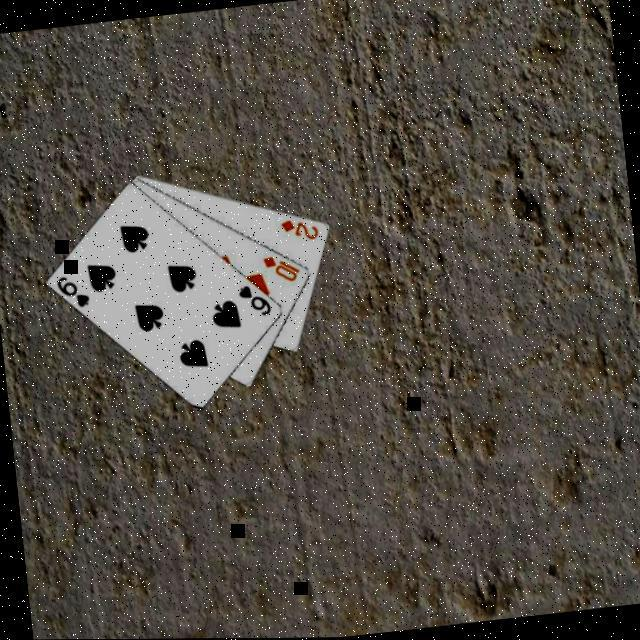10D: (258, 249, 300, 285)
2D: (275, 212, 320, 244)
6S: (50, 268, 90, 311), (232, 278, 272, 320)
